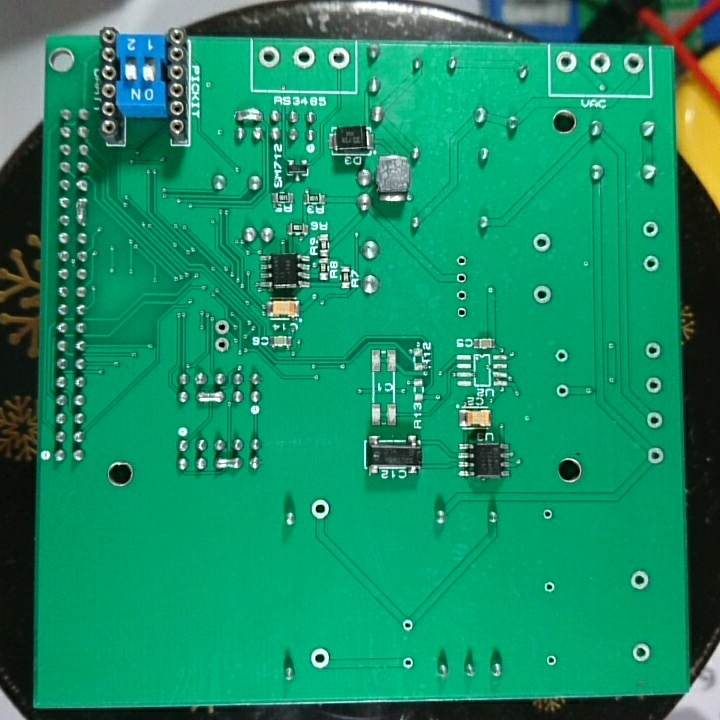F: (554, 49, 581, 76), (256, 44, 283, 71), (291, 44, 317, 71), (308, 646, 333, 674), (588, 51, 614, 76), (308, 496, 332, 523), (325, 46, 351, 70), (623, 51, 646, 78), (531, 230, 553, 258), (531, 282, 554, 308), (628, 567, 651, 592), (630, 641, 653, 666), (642, 374, 664, 398), (642, 338, 663, 363), (640, 252, 662, 275), (644, 409, 665, 432), (211, 335, 234, 356), (644, 444, 665, 466), (551, 380, 572, 401), (210, 317, 232, 337), (551, 347, 571, 368), (640, 218, 659, 240), (399, 652, 416, 676), (539, 505, 557, 524), (541, 578, 558, 597), (451, 270, 471, 286), (399, 616, 416, 634), (454, 304, 470, 322), (452, 288, 471, 302), (452, 253, 468, 269), (545, 652, 560, 669)
P: (71, 195, 91, 227), (231, 106, 267, 123), (195, 389, 224, 406), (213, 456, 242, 472)
